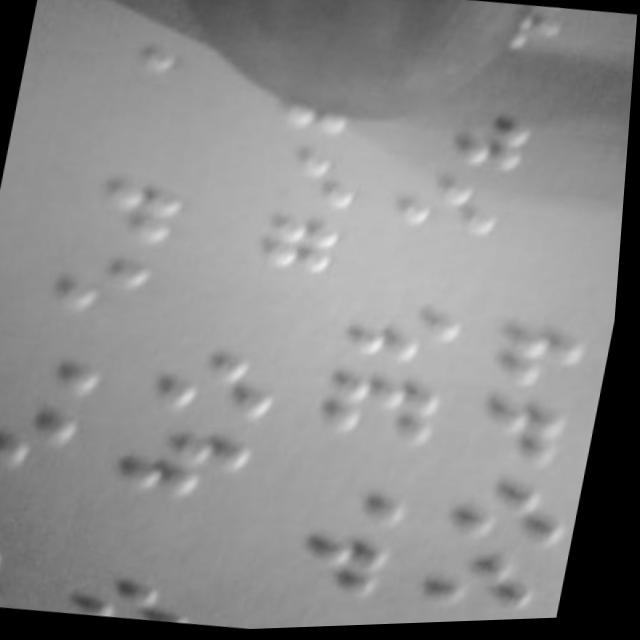braiile: (124, 422, 263, 513), (42, 171, 190, 256), (319, 367, 458, 456), (24, 245, 174, 327), (215, 205, 356, 292), (275, 526, 413, 613), (155, 346, 297, 430), (232, 136, 374, 217), (455, 475, 586, 562), (344, 299, 482, 380), (403, 105, 540, 186), (390, 171, 521, 251), (429, 542, 555, 625), (298, 460, 430, 538), (83, 557, 216, 630), (0, 318, 117, 398), (0, 389, 98, 477)
